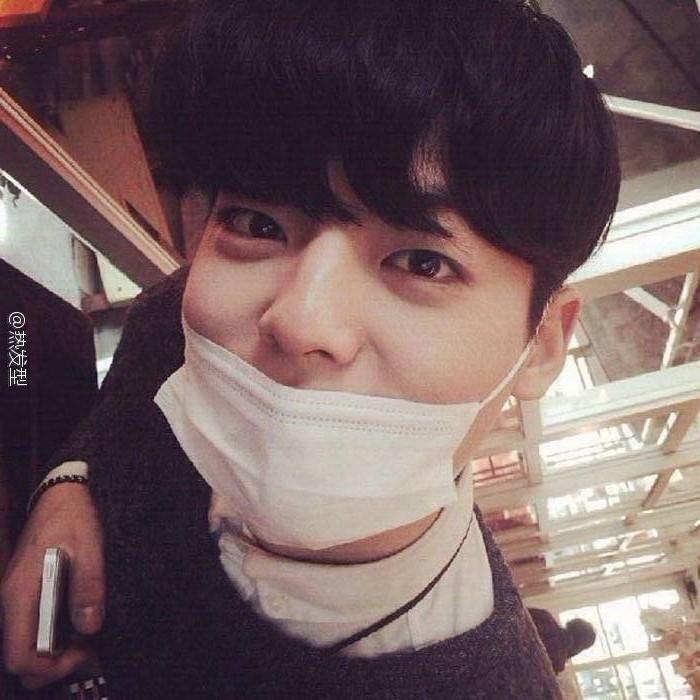WRONG: (166, 144, 561, 539)
